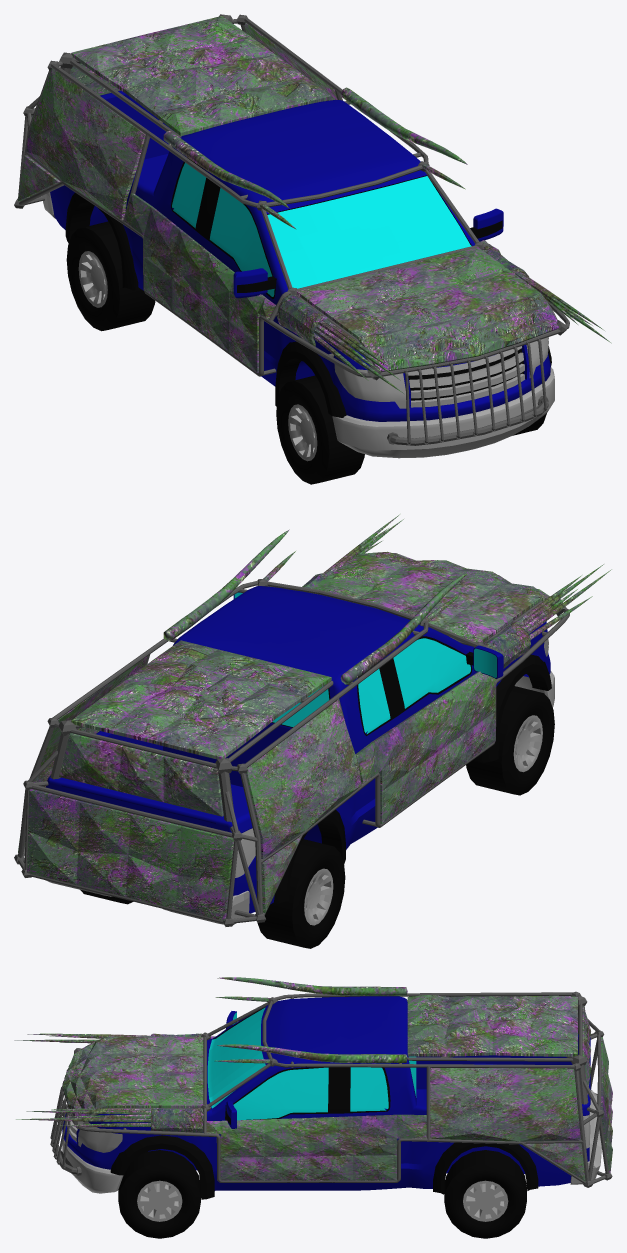
File: Truck.fbx
3 renders of one model, top to bottom at view 1: azimuth 30°, elevation 25°; view 2: azimuth 150°, elevation 25°; view 3: azimuth 270°, elevation 25°, orthographic. The views are drawn at different scales.
Visible parts, largest first — view 1: Truck, Armor_Panel_07_Geo, Armor_Panel_08_Geo, Roll_Cage, Armor_Panel_10_Geo, Armor_Panel_01_Geo, Spike_01_Geo, polySurface40, Armor_Panel_09_Geo, Armor_Panel_04_Geo; view 2: Truck, Armor_Panel_05_Geo, Armor_Panel_08_Geo, Roll_Cage, Armor_Panel_07_Geo, Armor_Panel_10_Geo, Armor_Panel_01_Geo, Armor_Panel_06_Geo, Spike_01_Geo, Armor_Panel_04_Geo, polySurface40, Armor_Panel_09_Geo; view 3: Truck, Armor_Panel_02_Geo, Roll_Cage, Armor_Panel_04_Geo, Armor_Panel_08_Geo, Armor_Panel_07_Geo, Spike_01_Geo, polySurface39, Armor_Panel_03_Geo, Armor_Panel_05_Geo, Armor_Panel_06_Geo, Spike_03_Geo (+2 smaller).
Part boxes in pixels (box(x1,y1,x2,y2)): Truck: box(42, 90, 554, 484); Armor_Panel_07_Geo: box(297, 247, 558, 371); Armor_Panel_08_Geo: box(71, 16, 331, 135); Roll_Cage: box(14, 14, 569, 445); Armor_Panel_10_Geo: box(124, 193, 275, 372); Armor_Panel_01_Geo: box(26, 68, 145, 219); Spike_01_Geo: box(163, 87, 467, 208); polySurface40: box(277, 293, 327, 346); Armor_Panel_09_Geo: box(18, 155, 60, 201); Armor_Panel_04_Geo: box(244, 23, 342, 101); Truck: box(45, 586, 554, 948); Armor_Panel_05_Geo: box(27, 789, 233, 920); Armor_Panel_08_Geo: box(71, 640, 331, 759); Roll_Cage: box(14, 579, 569, 926); Armor_Panel_07_Geo: box(311, 551, 556, 642); Armor_Panel_10_Geo: box(355, 671, 503, 823); Armor_Panel_01_Geo: box(245, 700, 361, 858); Armor_Panel_06_Geo: box(59, 733, 223, 816); Spike_01_Geo: box(163, 529, 467, 684); Armor_Panel_04_Geo: box(33, 656, 147, 791); polySurface40: box(483, 621, 530, 668); Armor_Panel_09_Geo: box(261, 838, 299, 912); Truck: box(62, 996, 601, 1238); Armor_Panel_02_Geo: box(206, 1114, 426, 1180); Roll_Cage: box(50, 991, 612, 1187); Armor_Panel_04_Geo: box(430, 1067, 580, 1141); Armor_Panel_08_Geo: box(407, 995, 577, 1056); Armor_Panel_07_Geo: box(63, 1036, 203, 1118); Spike_01_Geo: box(217, 977, 407, 1063); polySurface39: box(151, 1107, 203, 1132); Armor_Panel_03_Geo: box(527, 1143, 585, 1181); Armor_Panel_05_Geo: box(601, 1037, 612, 1173); Armor_Panel_06_Geo: box(582, 1005, 591, 1094); Spike_03_Geo: box(16, 1118, 150, 1122).
Bounding box in the file's own units: 2.22 × 1.91 × 5.52.
